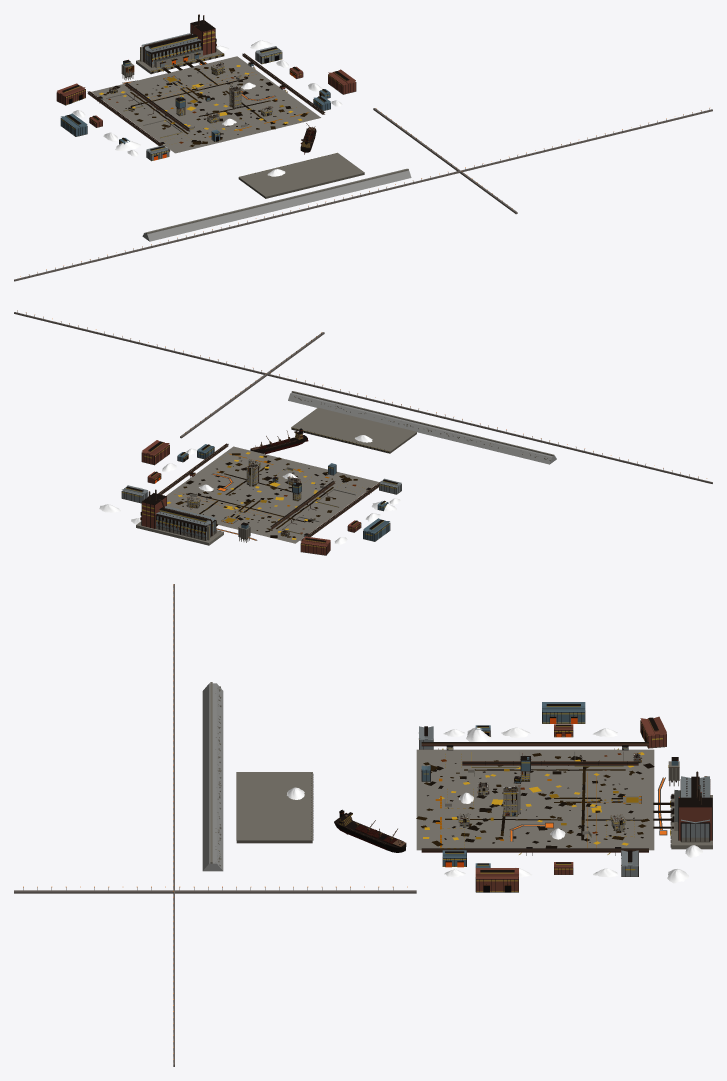
Rendered from SM_Arena_Unique.fbx.
3 views of the same model, one above another, from view 1: azimuth 30°, elevation 25°; view 2: azimuth 150°, elevation 25°; view 3: azimuth 270°, elevation 25° (orthographic). The views are drawn at different scales.
Visible parts, largest first — view 1: u0_ground, u766_breakwater, u819_mole, u177_hall_s, u818_farshore, u1403_decals, u1632_decals_tracks, u834_peninsula, u86_shed_low75, u178_hall_terrace, u84_shed_low73, u87_shed_low76; view 2: u0_ground, u766_breakwater, u819_mole, u177_hall_s, u818_farshore, u1403_decals, u1632_decals_tracks, u768_carrier, u834_peninsula, u86_shed_low75, u84_shed_low73, u87_shed_low76 (+1 smaller); view 3: u0_ground, u819_mole, u766_breakwater, u177_hall_s, u1403_decals, u834_peninsula, u1632_decals_tracks, u768_carrier, u941_rack_low, u86_shed_low75, u1144_rack_low, u87_shed_low76 (+2 smaller).
Part boxes in pixels (box(x1,y1,x2,y2)): u0_ground: box(91, 56, 320, 153); u766_breakwater: box(142, 168, 411, 241); u819_mole: box(238, 152, 364, 198); u177_hall_s: box(140, 14, 216, 73); u818_farshore: box(14, 109, 712, 281); u1403_decals: box(103, 67, 309, 146); u1632_decals_tracks: box(104, 63, 295, 138); u834_peninsula: box(373, 108, 517, 214); u86_shed_low75: box(328, 69, 356, 94); u178_hall_terrace: box(136, 48, 224, 74); u84_shed_low73: box(56, 83, 85, 105); u87_shed_low76: box(60, 113, 87, 136); u0_ground: box(166, 446, 379, 543); u766_breakwater: box(288, 391, 556, 464); u819_mole: box(291, 407, 416, 453); u177_hall_s: box(140, 489, 218, 540); u818_farshore: box(14, 312, 712, 483); u1403_decals: box(174, 453, 364, 537); u1632_decals_tracks: box(182, 457, 345, 537); u768_carrier: box(250, 428, 308, 454); u834_peninsula: box(180, 332, 324, 438); u86_shed_low75: box(141, 440, 169, 465); u84_shed_low73: box(300, 536, 330, 555); u87_shed_low76: box(363, 518, 390, 541); u0_ground: box(416, 749, 654, 850); u819_mole: box(236, 772, 313, 843); u766_breakwater: box(202, 682, 223, 871); u177_hall_s: box(653, 771, 712, 842); u1403_decals: box(416, 753, 654, 848); u834_peninsula: box(14, 890, 416, 893); u1632_decals_tracks: box(427, 755, 643, 843); u768_carrier: box(334, 809, 406, 852); u941_rack_low: box(421, 742, 648, 746); u86_shed_low75: box(475, 868, 518, 892); u1144_rack_low: box(421, 848, 648, 852); u87_shed_low76: box(542, 702, 585, 723).
Size of the model in its own units: 2400 by 144 by 1475.
